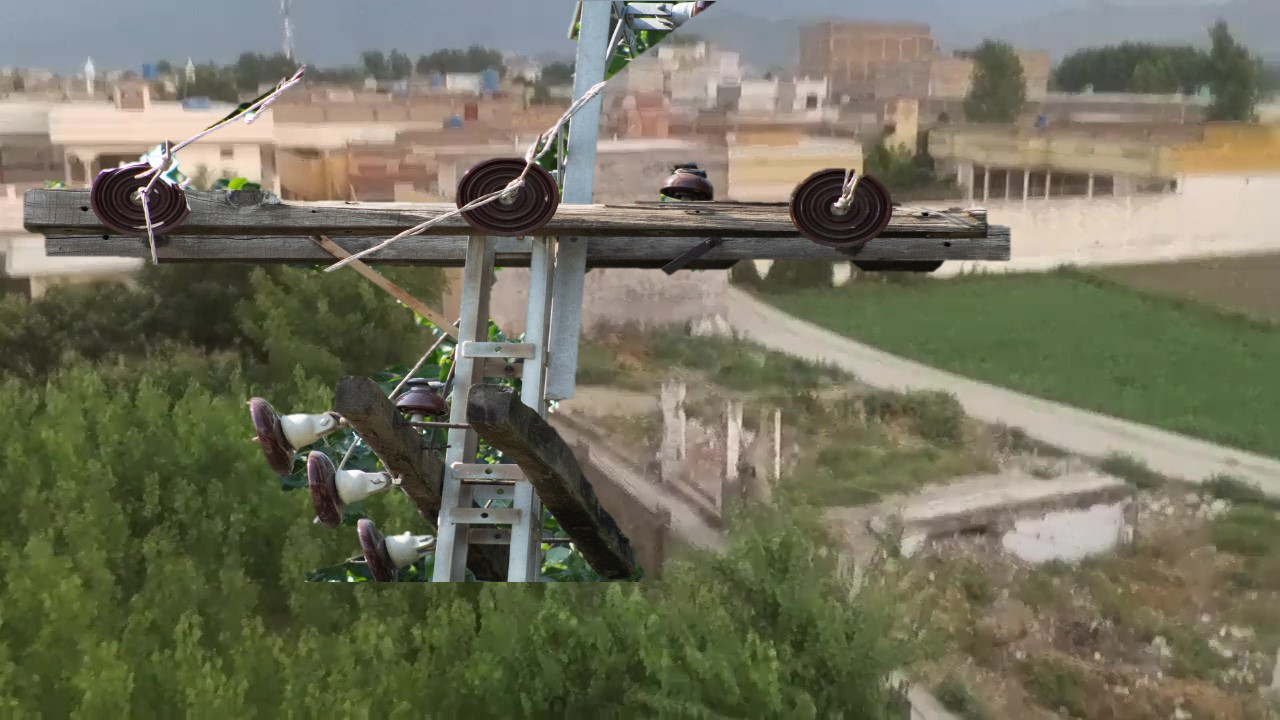defect_disc: (87, 156, 193, 251)
insulator_disc: (255, 451, 401, 525), (790, 159, 896, 253), (463, 149, 566, 240), (339, 518, 431, 584), (240, 390, 329, 458)
insulator_pin: (390, 364, 454, 425), (657, 153, 721, 206)
